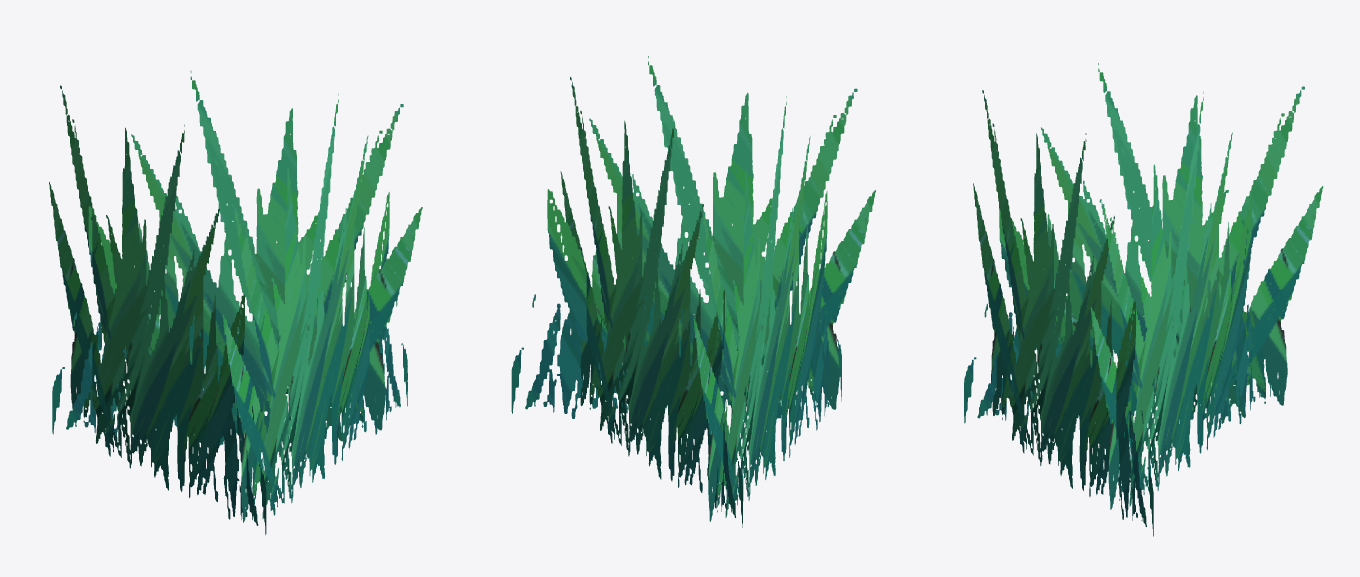
The model's file is GrassOutersect.fbx.
3 renders of one model, left to right at view 1: azimuth 30°, elevation 25°; view 2: azimuth 150°, elevation 25°; view 3: azimuth 270°, elevation 25°, orthographic. The views are drawn at different scales.
Visible parts, largest first — view 1: group2; view 2: group2; view 3: group2.
Part boxes in pixels (<box>): group2: <box>49,71,422,535</box>; group2: <box>511,56,875,527</box>; group2: <box>964,63,1323,536</box>.
Bounding box in the file's own units: 0.9428 × 1 × 0.9946.
